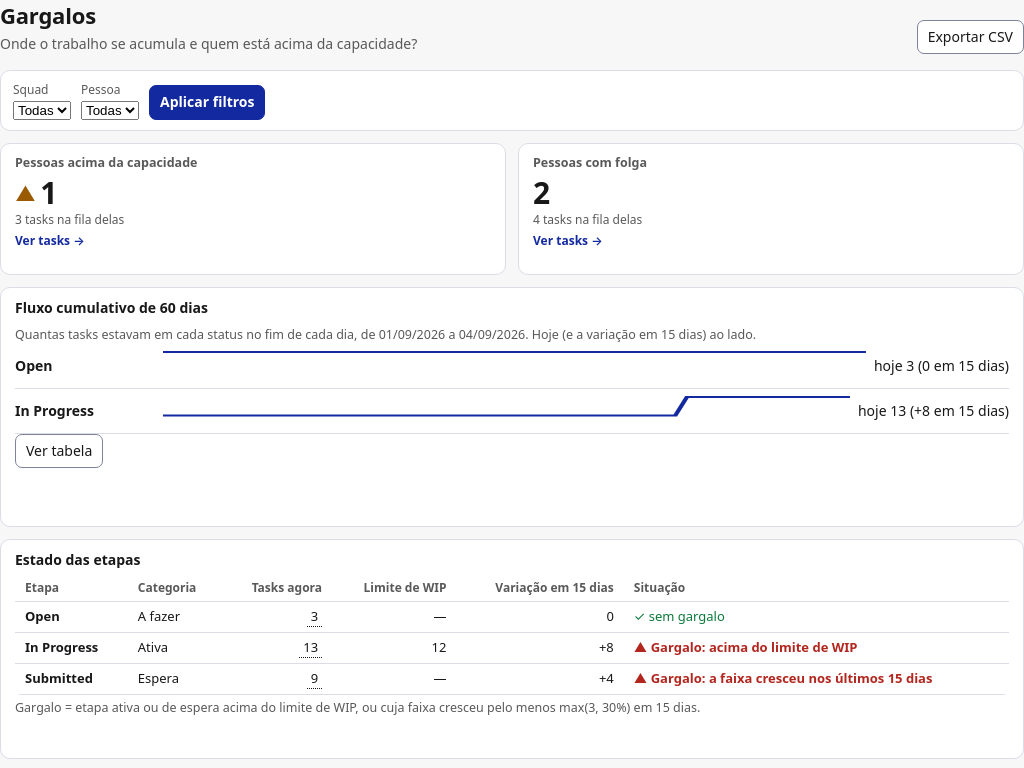
Test case: tela Gargalos e fluxo › etapaAbreAsTasksDoStatus
Click the button named "In Progress Tasks agora: 13": (311, 648) [299, 638, 322, 658]
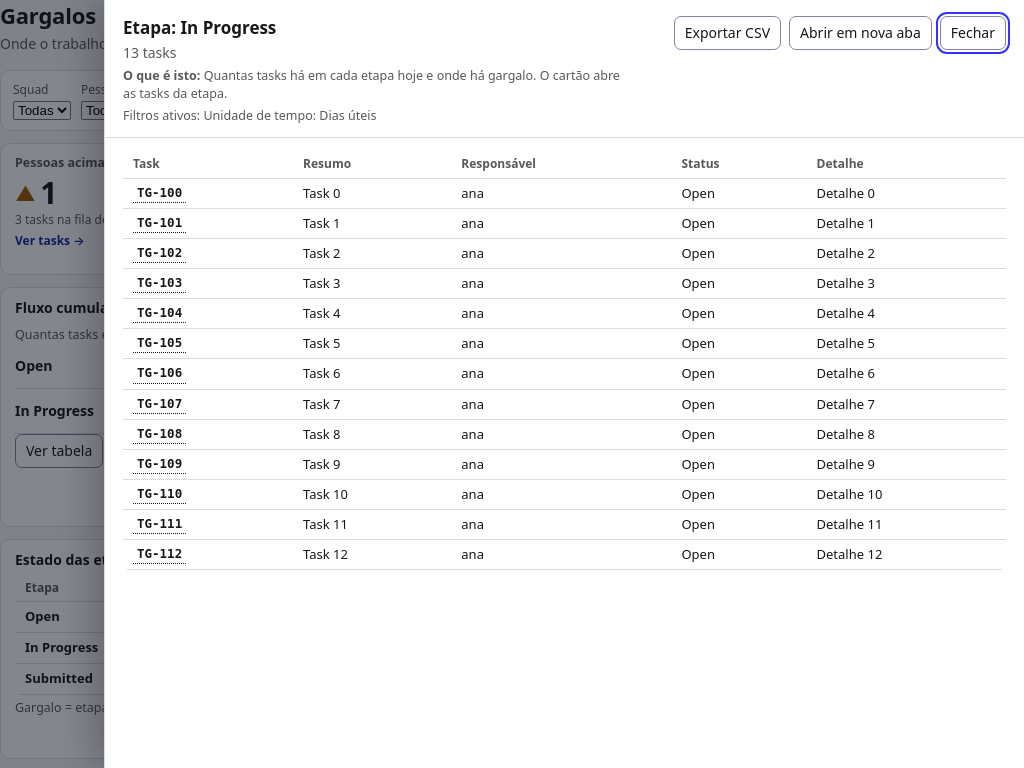
Check: the text "13 tasks" is shown, box [123, 43, 176, 62]
